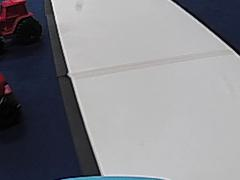Tracktor: (0, 0, 42, 48)
